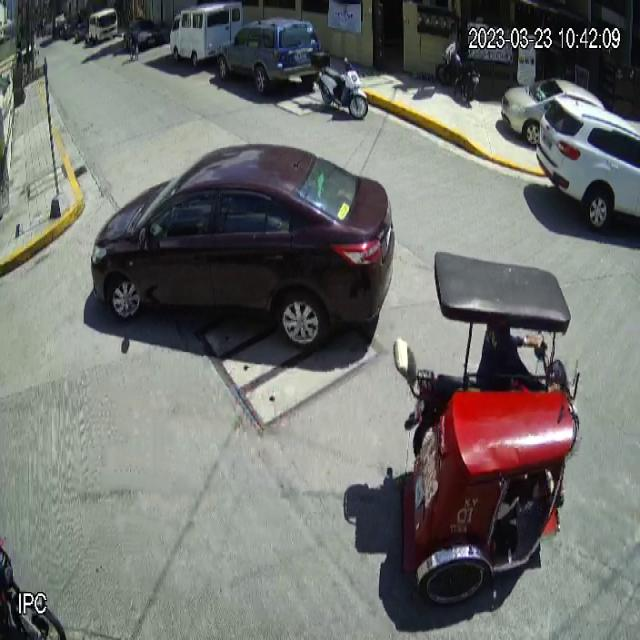Car: (90, 140, 396, 352), (535, 96, 640, 233), (217, 16, 322, 89)
Motorcycle: (310, 50, 369, 117)
Tricycle: (393, 249, 580, 604)
Van: (169, 2, 244, 68)
